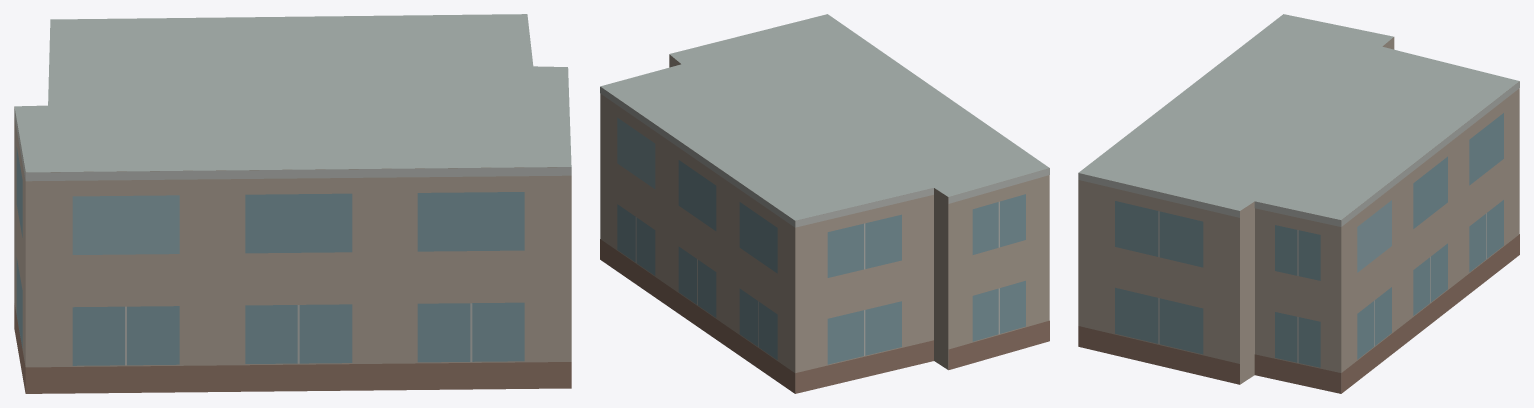
Rendered from survey-upis-32666321.glb.
3 views of the same model, side by side, from view 1: azimuth 30°, elevation 25°; view 2: azimuth 150°, elevation 25°; view 3: azimuth 270°, elevation 25° (orthographic). The views are drawn at different scales.
Parts seen in each view (by area): view 1: survey-upis-32666321.tmp; view 2: survey-upis-32666321.tmp; view 3: survey-upis-32666321.tmp.
Part boxes in pixels (left/top/right/bottom): survey-upis-32666321.tmp: left=14, top=14, right=571, bottom=393; survey-upis-32666321.tmp: left=600, top=14, right=1049, bottom=393; survey-upis-32666321.tmp: left=1078, top=14, right=1519, bottom=393.
Bounding box in the file's own units: 15.53 × 6.1 × 14.06.
